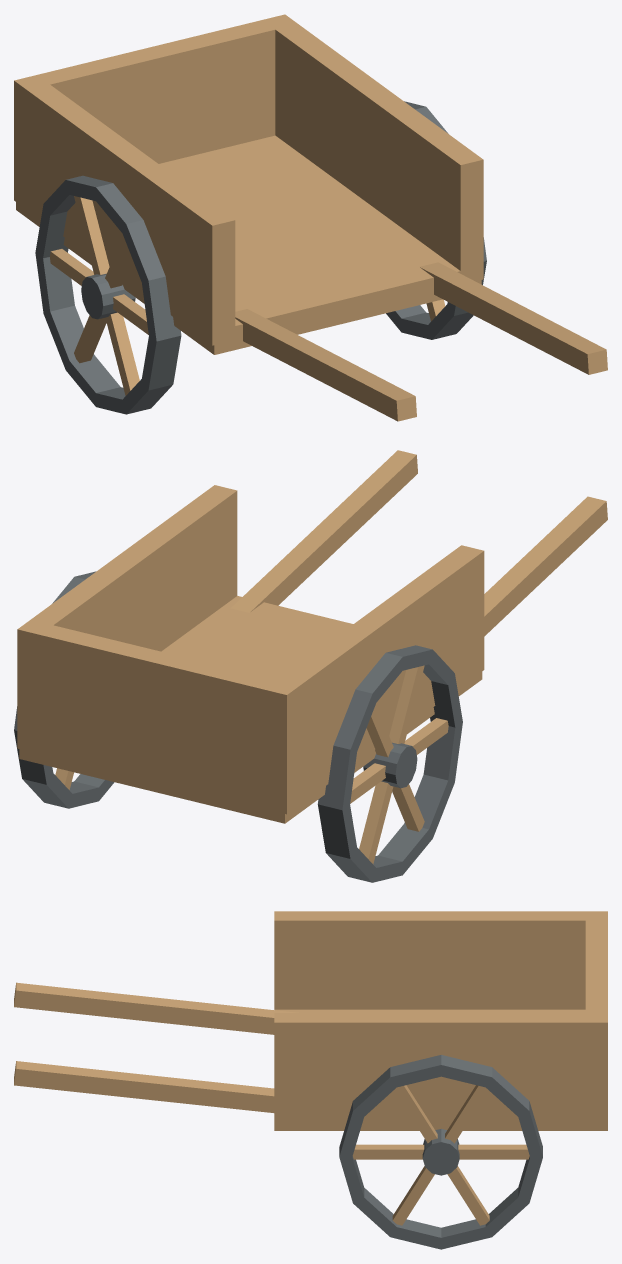
Rendered from handcart.glb.
3 views of the same model, one above another, from view 1: azimuth 30°, elevation 25°; view 2: azimuth 150°, elevation 25°; view 3: azimuth 270°, elevation 25° (orthographic). The views are drawn at different scales.
Parts seen in each view (by area): view 1: handcart; view 2: handcart; view 3: handcart.
Part boxes in pixels (x1,y1,x2,y2): handcart: (14,14,607,421); handcart: (14,450,607,882); handcart: (14,911,607,1249).
Bounding box in the file's own units: 1.77 × 1.25 × 3.21.
